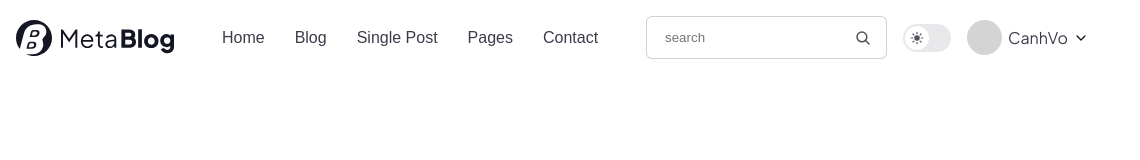
Scenario: Header component › toggles user dropdown on click
Click the text "CanhVo" at (1038, 38), box [1008,26,1068,50]
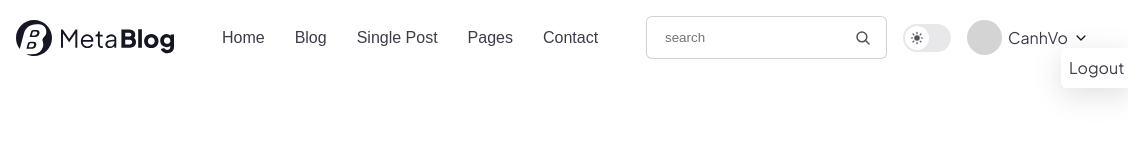
Result: the text "Logout" is shown at [1069,56,1124,80]
